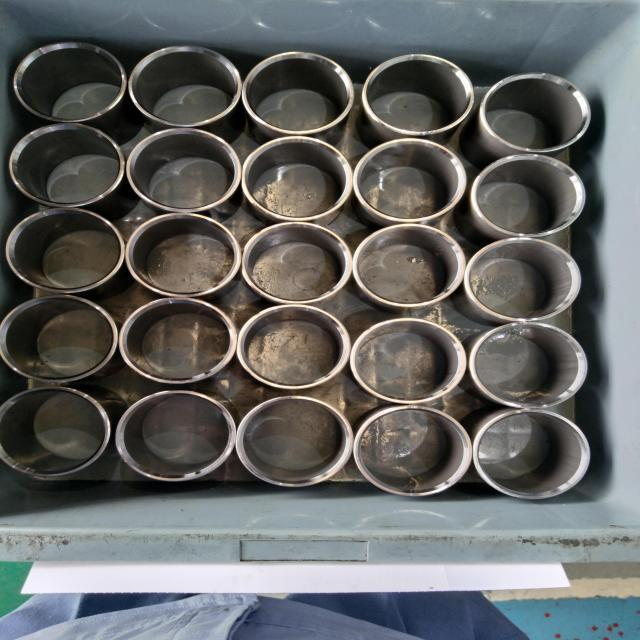pipe: (114, 388, 238, 483), (236, 394, 357, 489), (472, 408, 593, 501), (353, 405, 473, 498), (466, 321, 591, 410), (3, 205, 127, 294), (118, 297, 239, 386), (4, 294, 121, 386), (0, 384, 112, 480), (349, 317, 468, 405), (125, 212, 244, 299), (463, 236, 583, 322), (235, 302, 352, 390), (8, 122, 127, 208), (124, 127, 242, 213), (353, 138, 471, 224), (351, 223, 467, 310), (470, 153, 588, 238), (126, 43, 243, 128), (242, 50, 357, 136), (241, 135, 354, 221), (11, 41, 128, 124), (239, 221, 353, 306), (361, 54, 477, 137), (480, 72, 595, 155)
